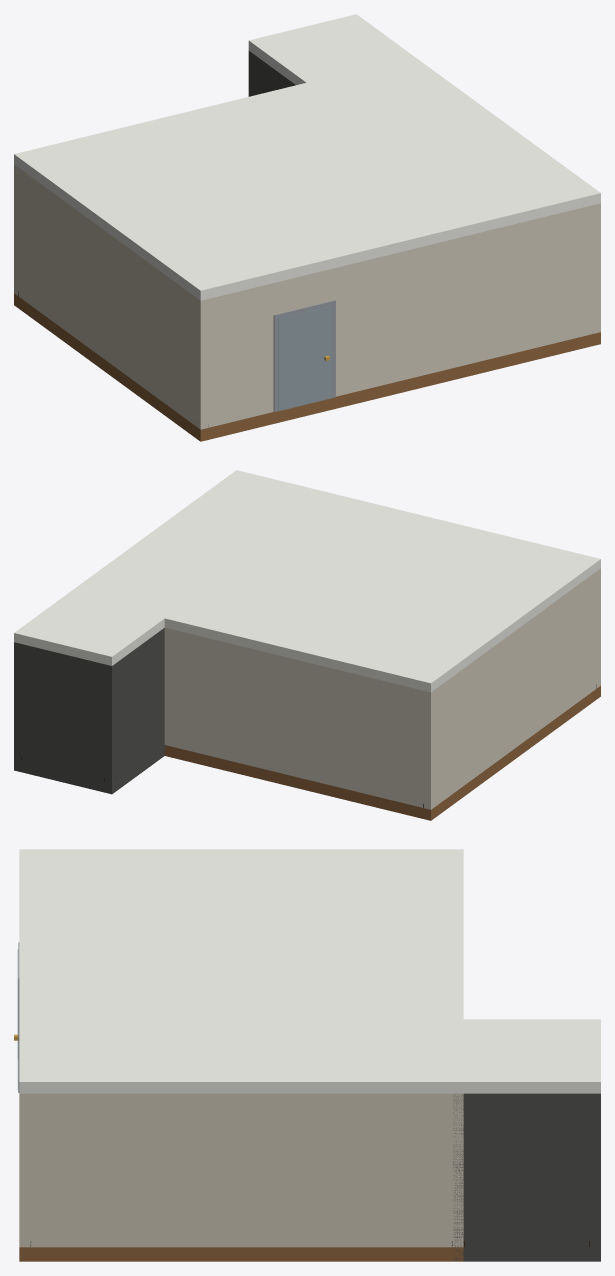
Rendered from shop_pawn.glb.
The picture shows the model from 3 angles, top to bottom: view 1: azimuth 30°, elevation 25°; view 2: azimuth 150°, elevation 25°; view 3: azimuth 270°, elevation 25°; orthographic projection. The views are drawn at different scales.
Parts seen in each view (by area): view 1: shop_pawn; view 2: shop_pawn; view 3: shop_pawn.
Part boxes in pixels (x1,y1,x2,y2): shop_pawn: (14,14,600,441); shop_pawn: (14,470,600,820); shop_pawn: (14,849,600,1261).
Size of what is drawn, in the model's own units: 10.4 by 3.75 by 11.1.
